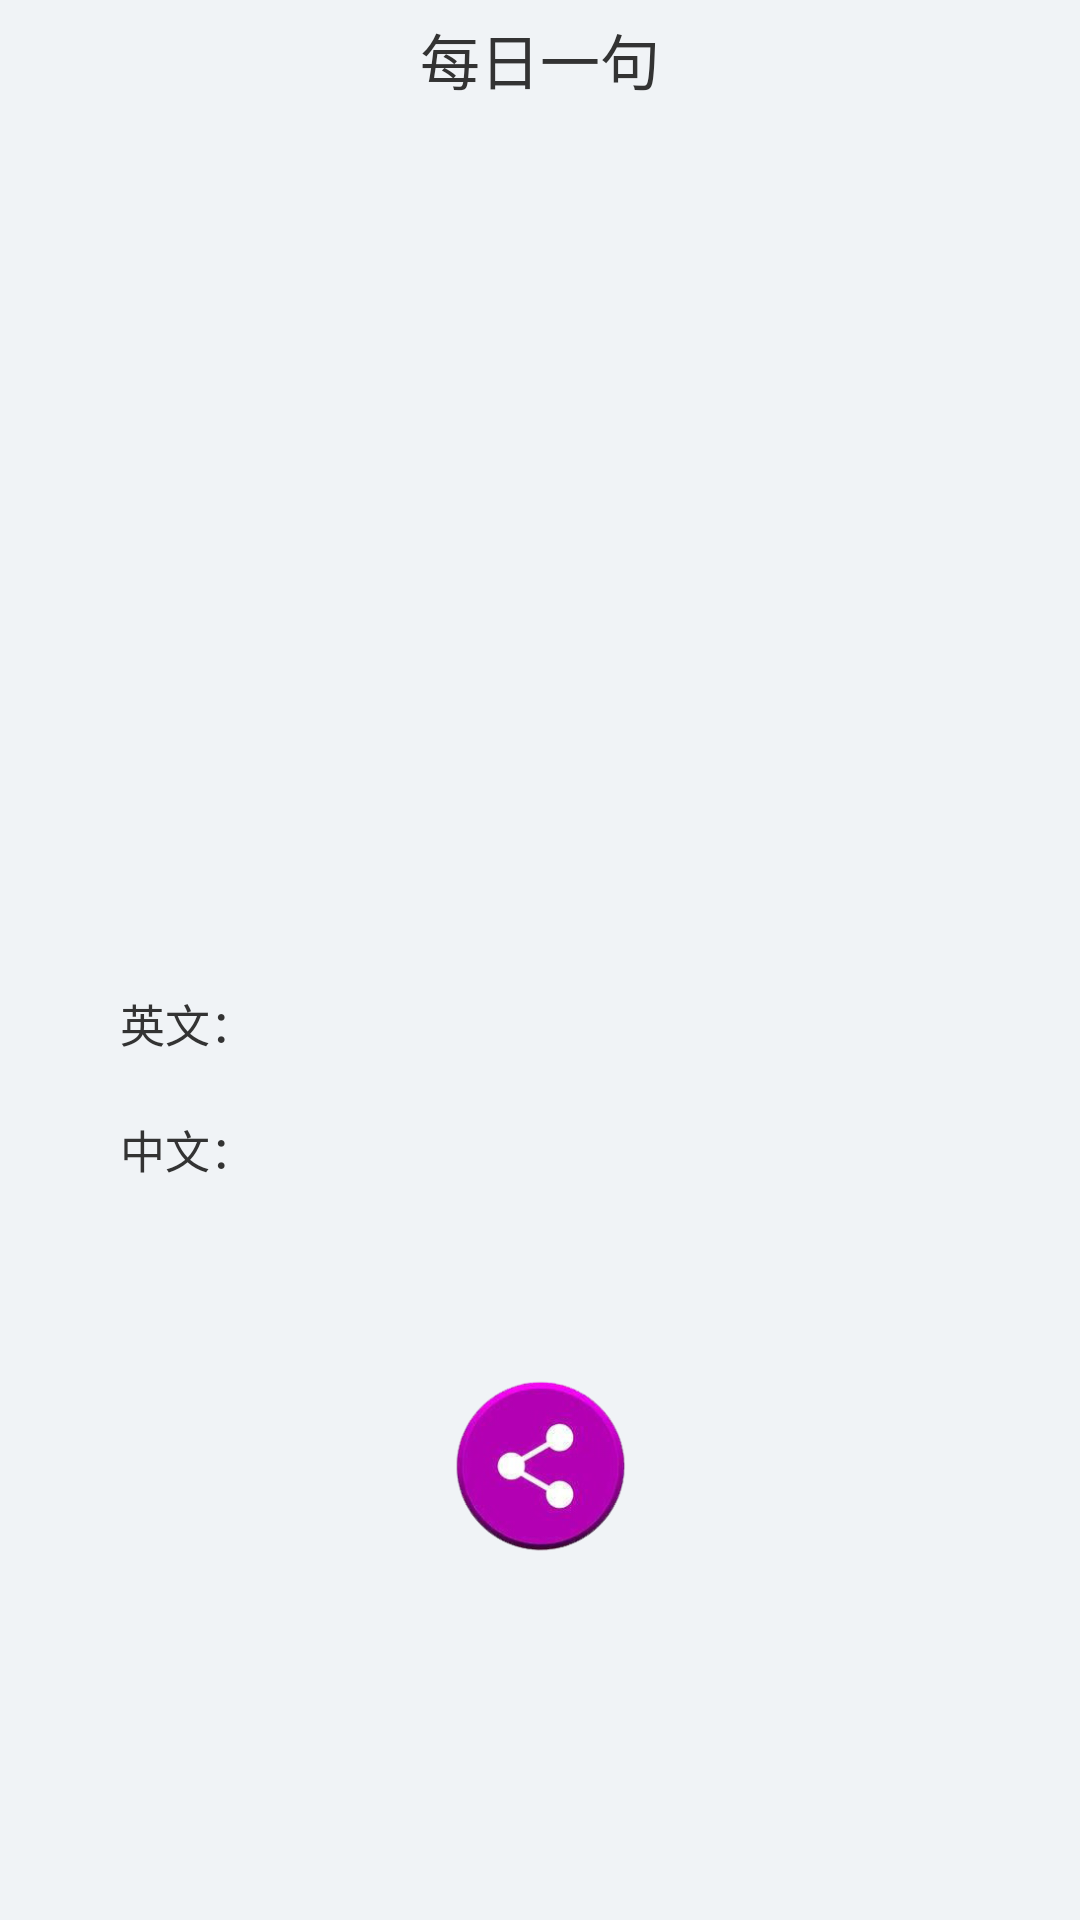

Icons on this 1080 x 1920 Android screen, each with its box as (x1, y1, x2, y2):
share: (456, 1382, 625, 1551)
